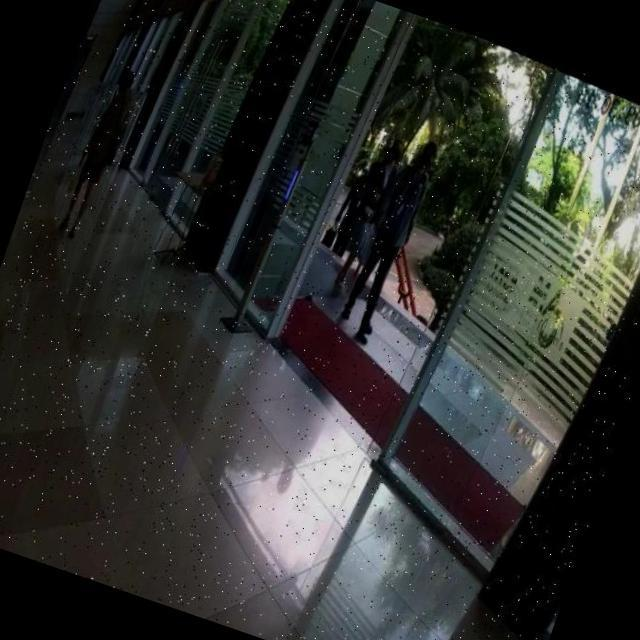person: (337, 129, 448, 336), (47, 60, 148, 249), (321, 130, 412, 302)
